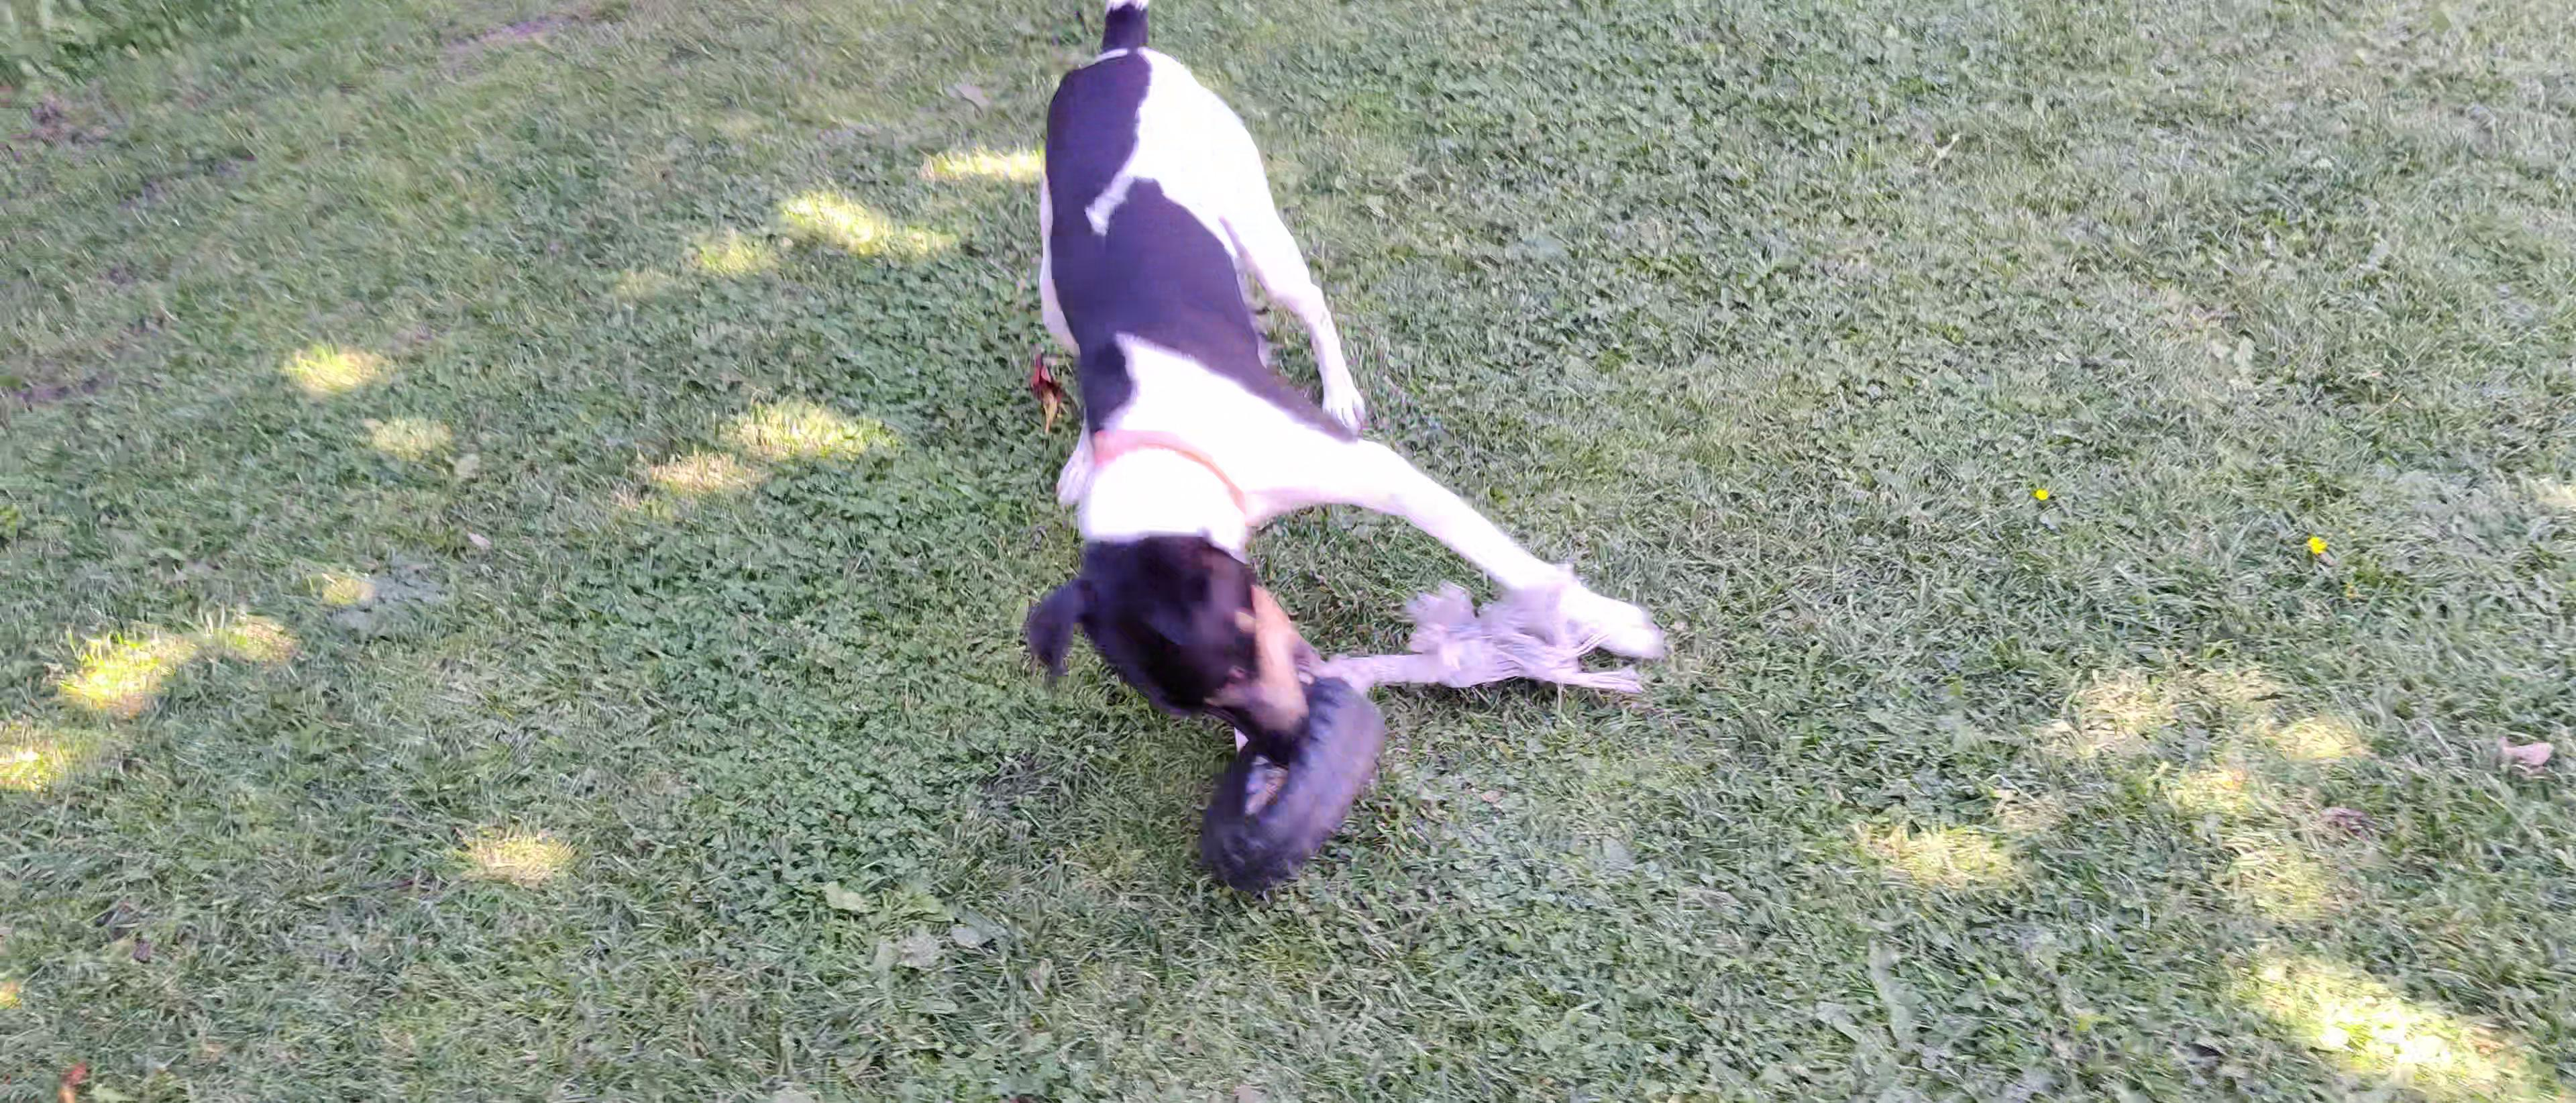Dog: (964, 0, 1692, 773)
